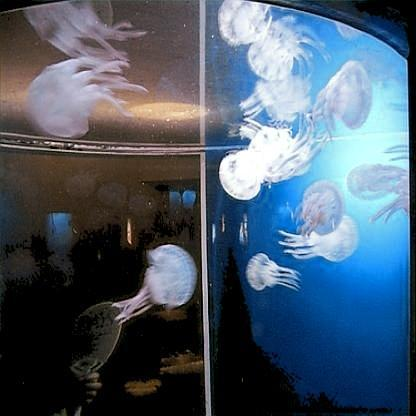LionMane: (22, 61, 144, 134), (25, 6, 151, 66), (112, 251, 197, 317), (239, 117, 321, 176), (311, 63, 371, 139), (249, 25, 327, 76), (280, 223, 360, 267), (220, 145, 276, 203), (241, 75, 303, 119), (346, 45, 401, 89), (218, 3, 272, 45), (247, 253, 303, 293), (347, 163, 401, 201), (370, 172, 410, 220), (336, 22, 368, 40)
